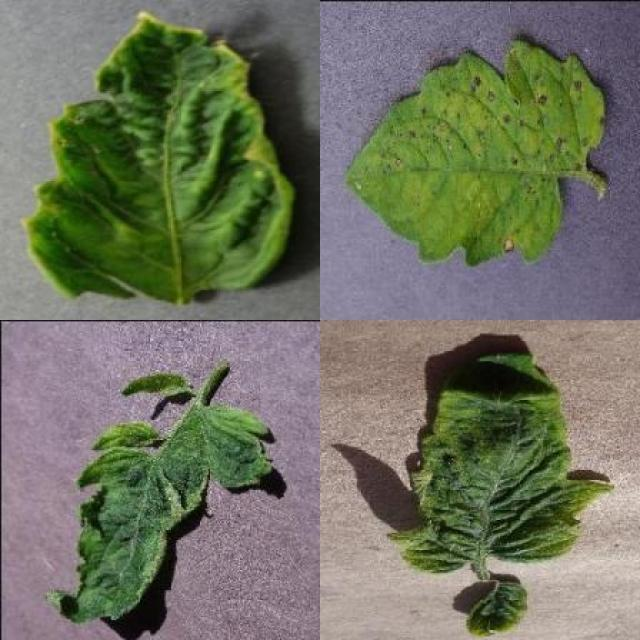Mosaic Virus: (40, 372, 274, 625)
Septoria: (339, 37, 606, 263)
Yellow Leaf Curl Virus: (23, 12, 296, 302), (389, 349, 614, 571), (466, 580, 531, 640)
